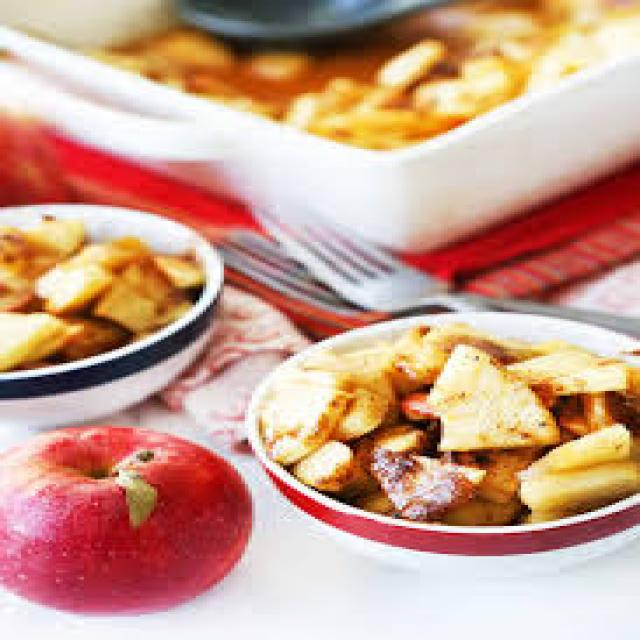Apple: (3, 430, 252, 614), (414, 347, 565, 450), (259, 365, 350, 461), (516, 441, 640, 511)
